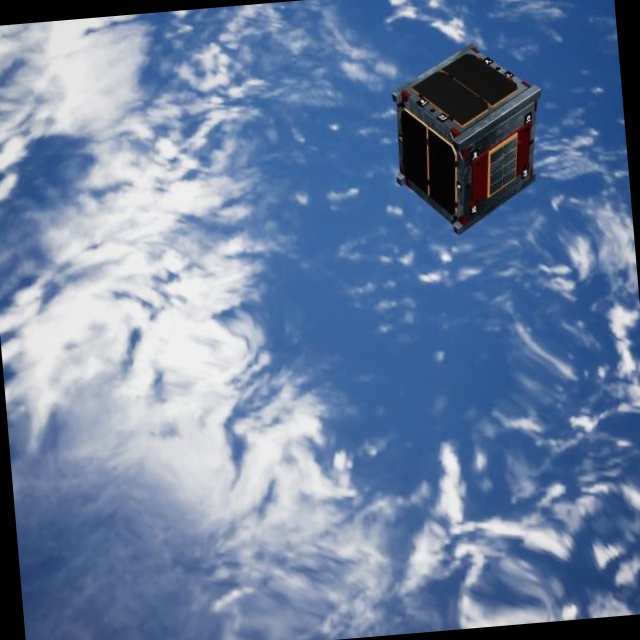medium_debris: (381, 35, 557, 244)
